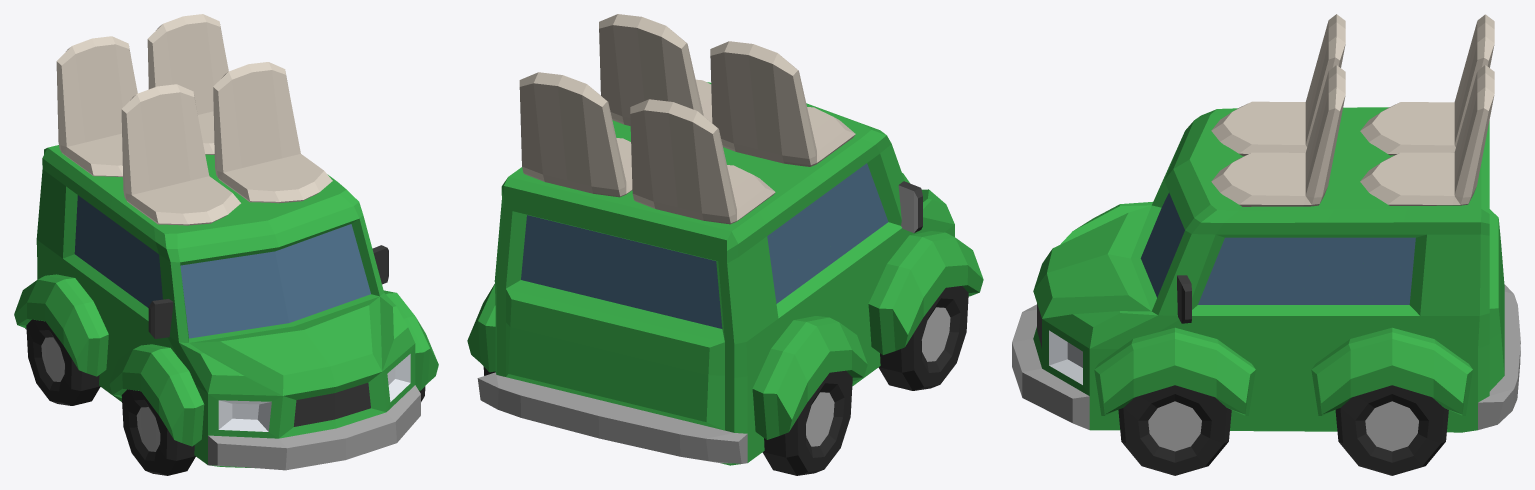
File: Bus_Green.fbx
3 renders of one model, left to right at view 1: azimuth 30°, elevation 25°; view 2: azimuth 150°, elevation 25°; view 3: azimuth 270°, elevation 25°, orthographic. The views are drawn at different scales.
Visible parts, largest first — view 1: Bus_Green; view 2: Bus_Green; view 3: Bus_Green.
Boxes of the visible parts, x1,y1,x2,y2 form: Bus_Green: [14, 14, 438, 475]; Bus_Green: [467, 14, 983, 475]; Bus_Green: [1012, 14, 1520, 475].
Size of the model in its own units: 483 by 548 by 700.
